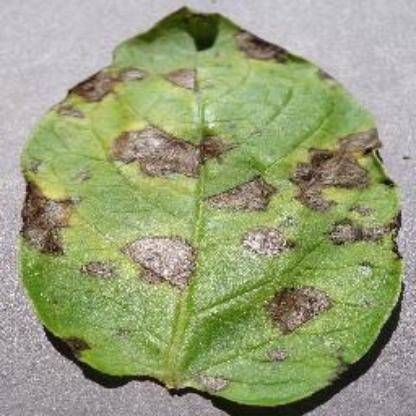Early-Blight: (16, 4, 404, 412)
